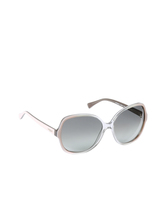glasses: (12, 93, 153, 153)
